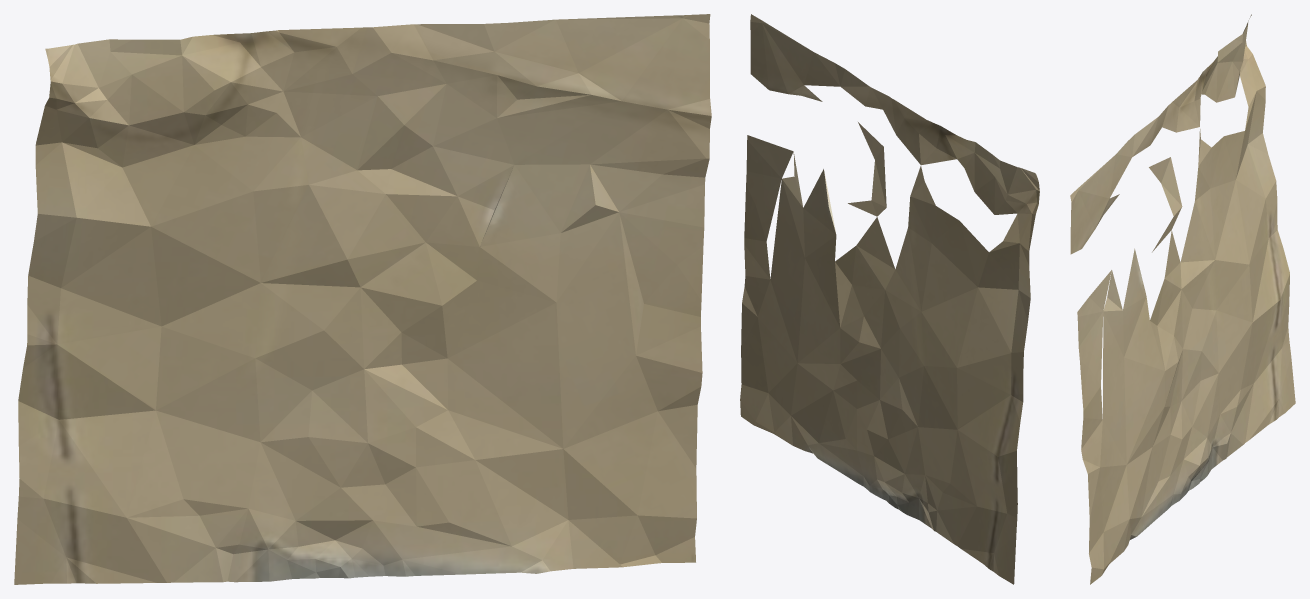
3 views of the same model, side by side, from view 1: azimuth 30°, elevation 25°; view 2: azimuth 150°, elevation 25°; view 3: azimuth 270°, elevation 25° (orthographic). The views are drawn at different scales.
Bounding box in the file's own units: 1.67 × 1.67 × 0.8865.
Materials: 3 (3 with a texture image).
